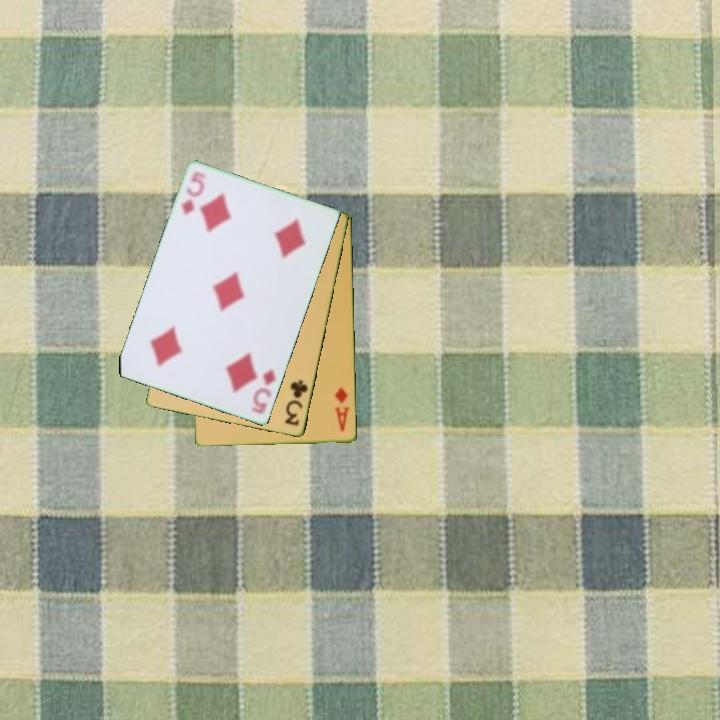3c: (281, 377, 311, 429)
5d: (178, 168, 210, 218), (248, 366, 279, 417)
Ad: (331, 384, 352, 434)
